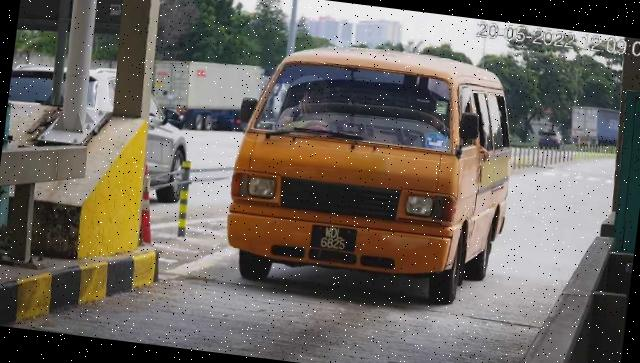License_Plate: (308, 221, 361, 257)
van: (220, 34, 523, 313)
